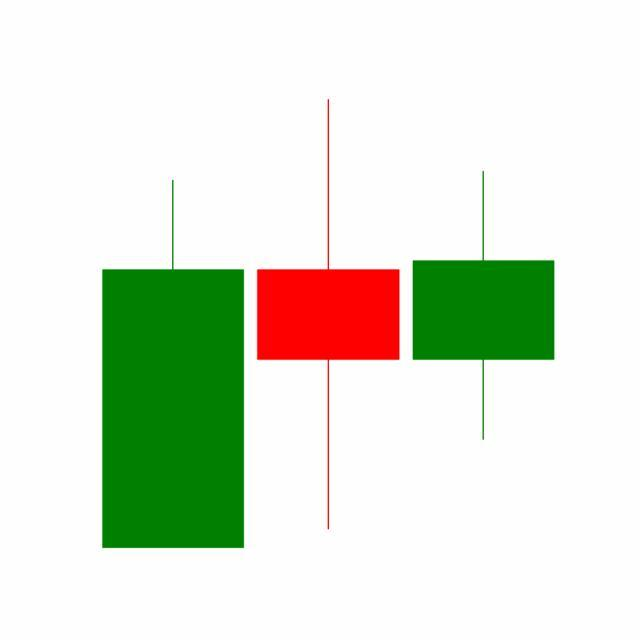Spinning Top: (250, 95, 407, 535)
